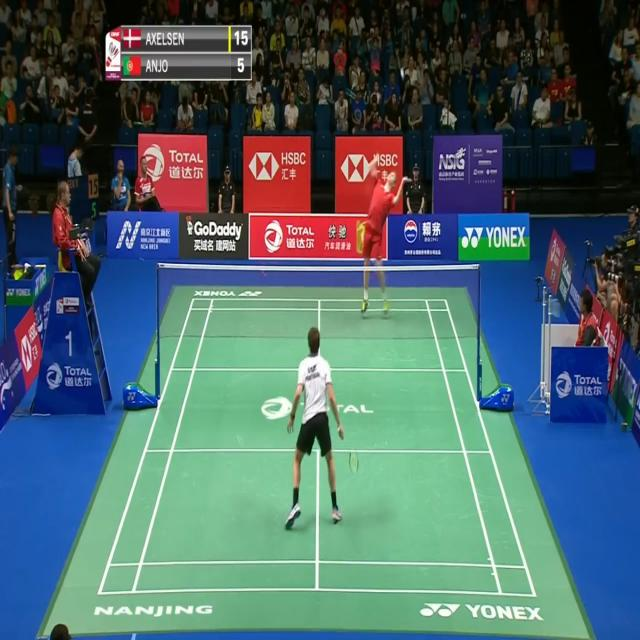Player1: (284, 327, 358, 533)
Player2: (359, 144, 411, 320)
